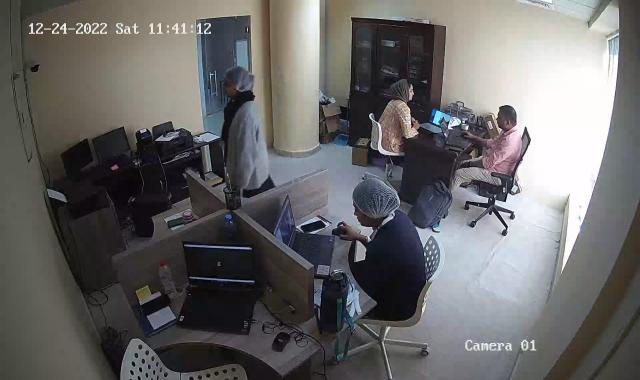hairnet: (350, 176, 401, 226), (222, 64, 256, 106)
no_hairnet: (495, 101, 518, 135), (388, 76, 414, 104)
